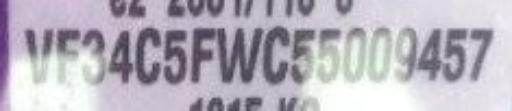letter: (216, 23, 262, 84), (22, 28, 54, 83), (189, 25, 217, 86), (366, 24, 394, 81), (261, 26, 289, 83), (289, 26, 317, 83), (440, 26, 468, 83), (80, 28, 108, 85), (106, 28, 134, 85), (54, 25, 80, 86), (135, 25, 161, 86), (340, 26, 368, 81), (416, 26, 444, 79), (392, 26, 418, 81), (468, 28, 494, 83), (318, 26, 342, 83), (164, 28, 186, 85)
